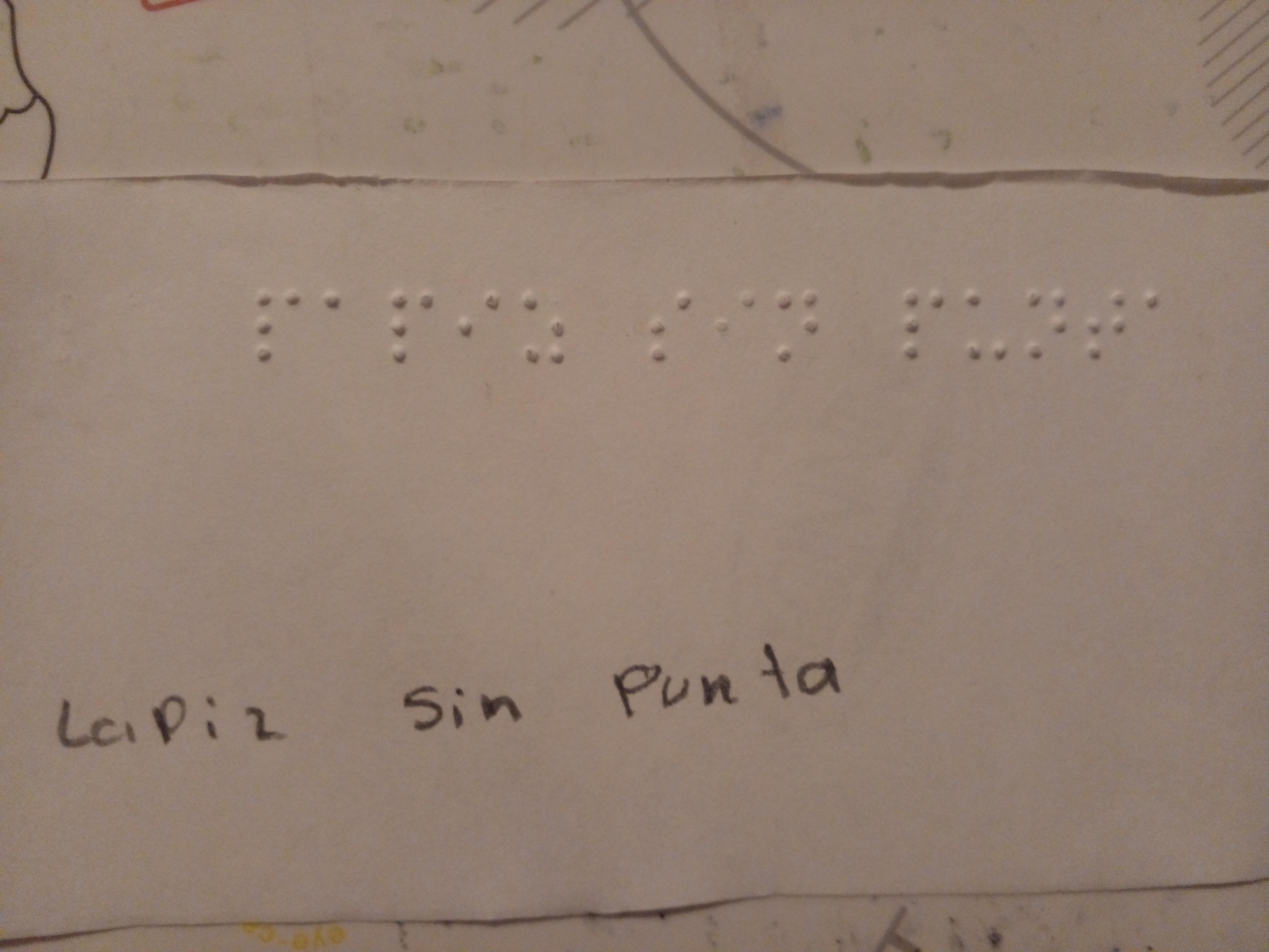a: (314, 262, 362, 378), (1131, 271, 1180, 383)
i: (708, 277, 768, 377), (452, 277, 500, 378)
l: (242, 267, 316, 367)
n: (770, 279, 827, 378), (1021, 276, 1075, 378)
p: (378, 276, 446, 383), (898, 273, 953, 386)
s: (640, 276, 696, 392)
t: (1081, 274, 1132, 380)
u: (950, 273, 1013, 389)
z: (500, 262, 579, 386)
